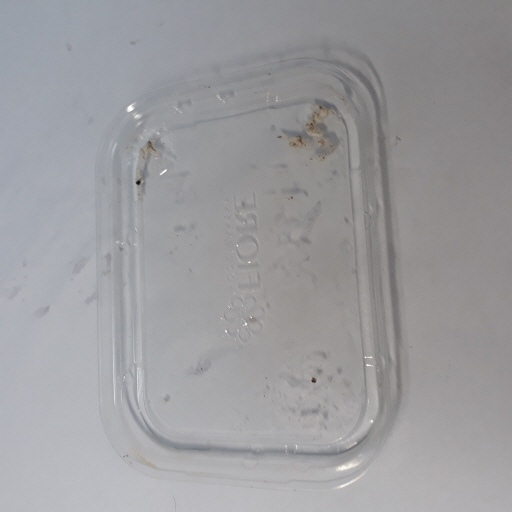Plastic_4: (94, 56, 403, 497)
